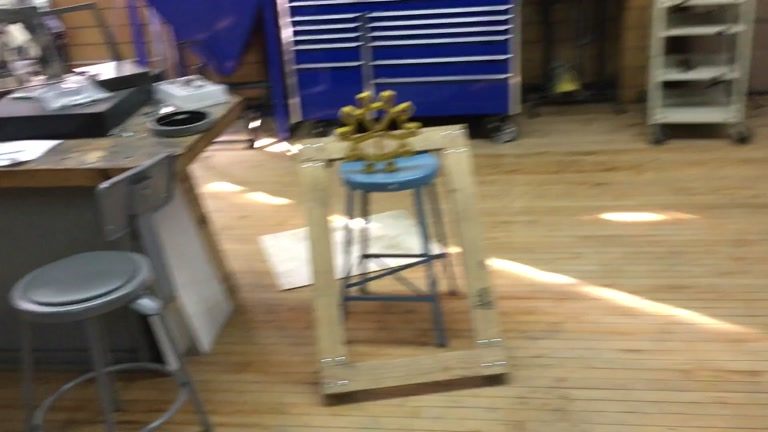gear: (336, 90, 422, 175)
